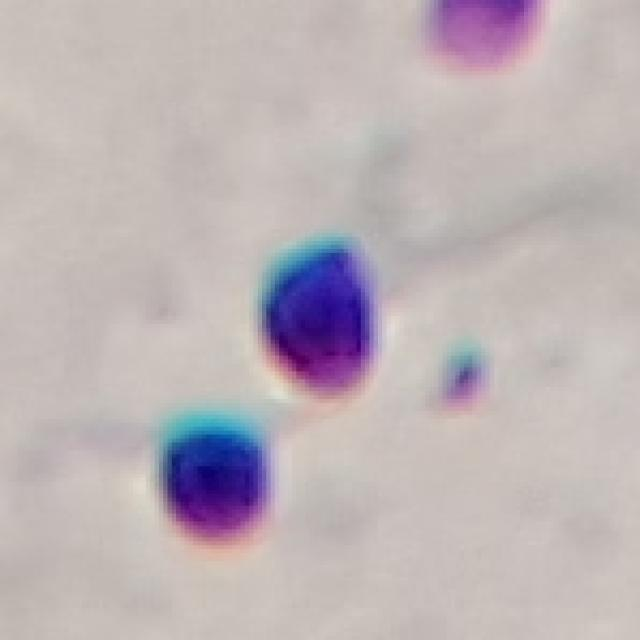non-sperm: (253, 239, 385, 402), (157, 420, 276, 546)
